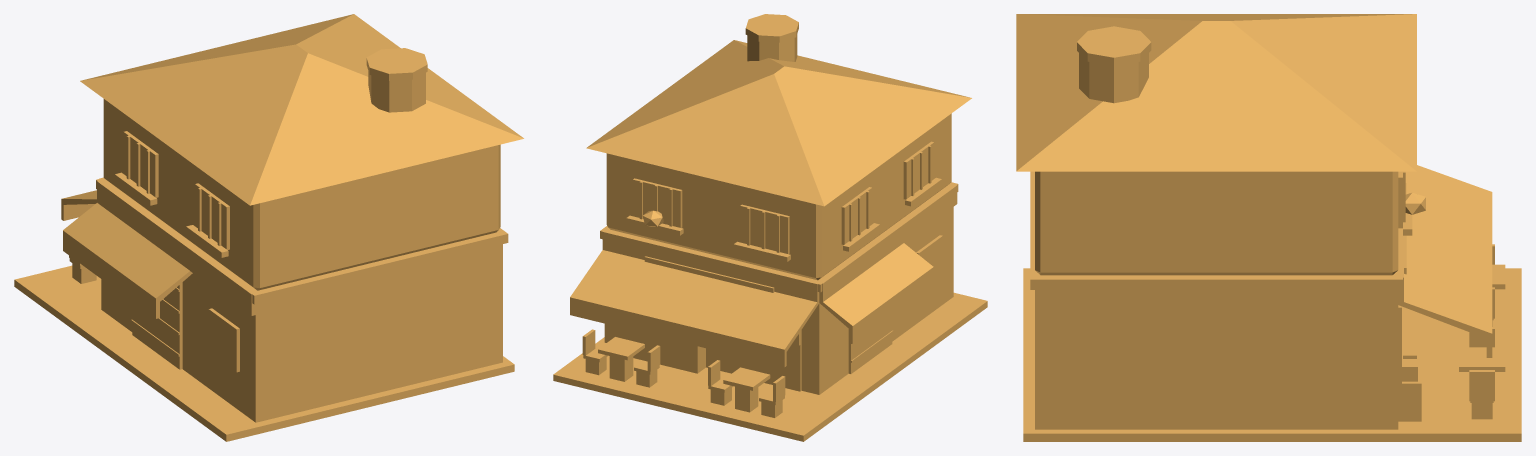
3 views of the same model, side by side, from view 1: azimuth 30°, elevation 25°; view 2: azimuth 150°, elevation 25°; view 3: azimuth 270°, elevation 25° (orthographic). The views are drawn at different scales.
Parts seen in each view (by area): view 1: corpo; view 2: corpo; view 3: corpo.
Boxes of the visible parts, <box> form: corpo: <box>14,14,523,441</box>; corpo: <box>553,14,987,441</box>; corpo: <box>1016,14,1521,441</box>.
Size of the model in its own units: 0.872 by 0.84 by 1.09.
